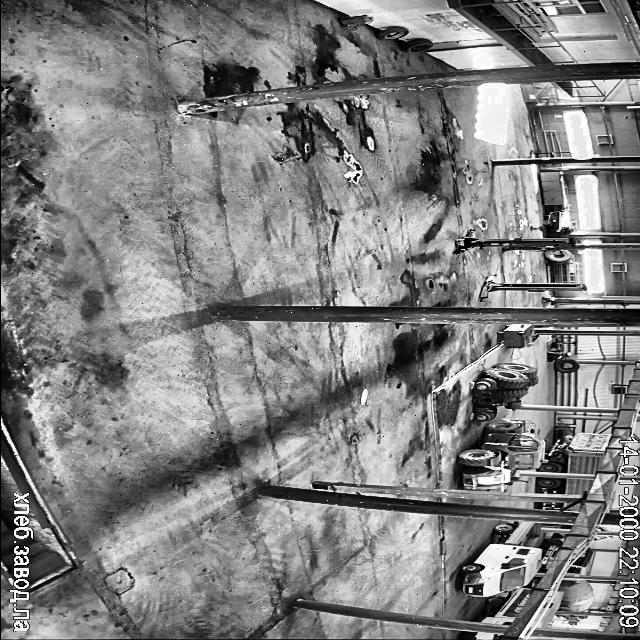class6: (458, 420, 544, 490), (474, 362, 538, 420)
class7: (460, 521, 540, 596), (540, 432, 612, 473), (480, 588, 532, 625), (557, 580, 594, 611), (538, 477, 594, 494), (537, 592, 560, 628), (541, 536, 563, 571), (567, 548, 595, 574), (460, 632, 508, 640), (542, 503, 566, 508), (566, 504, 580, 510), (564, 616, 579, 621)
tractor: (340, 16, 372, 30)
truck: (454, 230, 573, 253), (479, 275, 586, 300)
